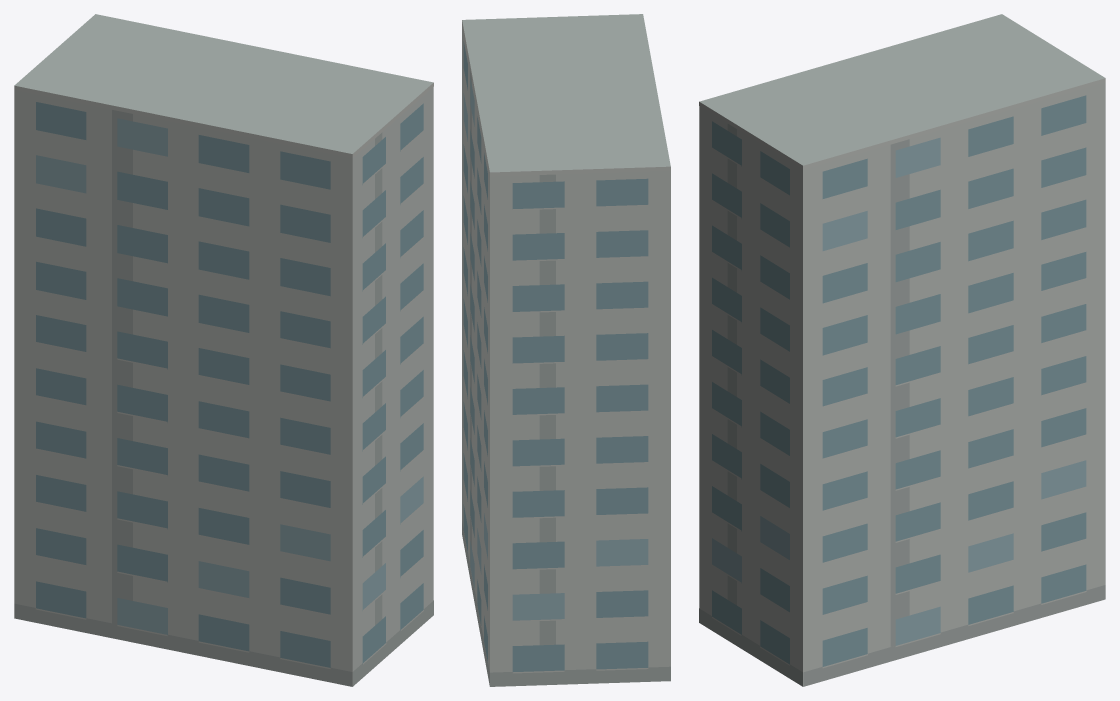
Rendered from residential-197e01c2-553e-4aac-9e0d-ff5a4cde147f.glb.
3 renders of one model, left to right at view 1: azimuth 30°, elevation 25°; view 2: azimuth 150°, elevation 25°; view 3: azimuth 270°, elevation 25°, orthographic. The views are drawn at different scales.
Visible parts, largest first — view 1: residential-197e01c2-553e-4aac-9e0d-ff5a4cde147f.tmp; view 2: residential-197e01c2-553e-4aac-9e0d-ff5a4cde147f.tmp; view 3: residential-197e01c2-553e-4aac-9e0d-ff5a4cde147f.tmp.
Boxes of the visible parts, x1,y1,x2,y2 form: residential-197e01c2-553e-4aac-9e0d-ff5a4cde147f.tmp: (14, 14, 433, 686); residential-197e01c2-553e-4aac-9e0d-ff5a4cde147f.tmp: (462, 14, 670, 686); residential-197e01c2-553e-4aac-9e0d-ff5a4cde147f.tmp: (699, 14, 1105, 686).
Bounding box in the file's own units: 18.74 × 30 × 21.22.
